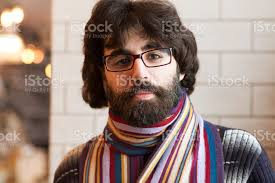Glasses: (95, 47, 181, 79)
